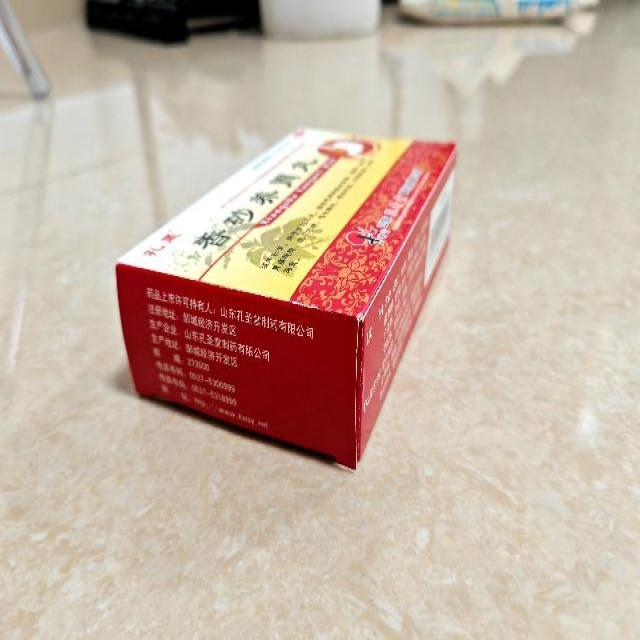box: (116, 126, 458, 469)
